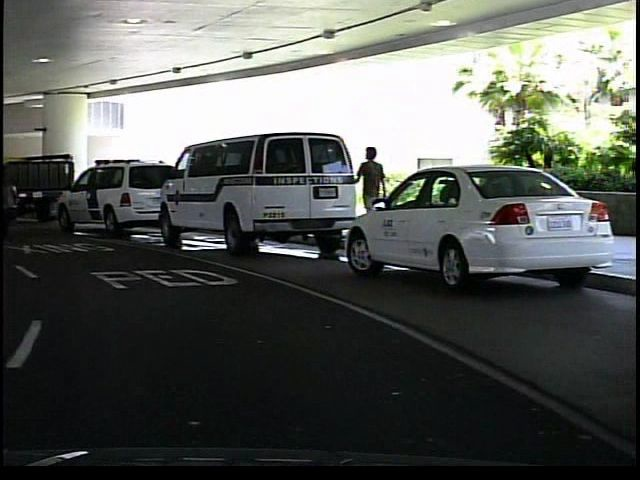person: (350, 139, 387, 245)
